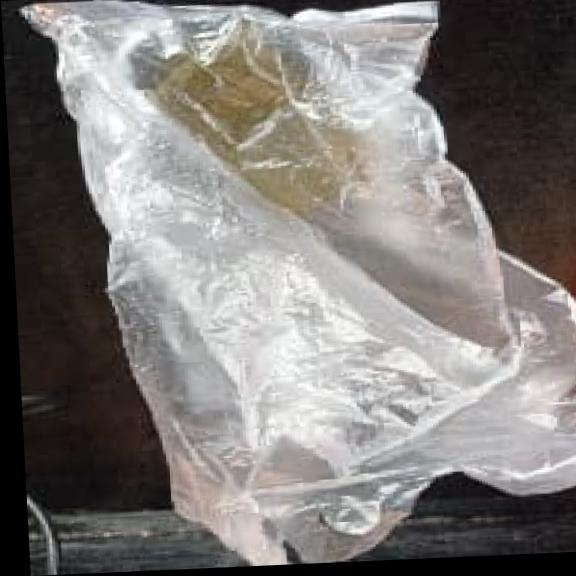Plastik: (27, 3, 576, 566)
